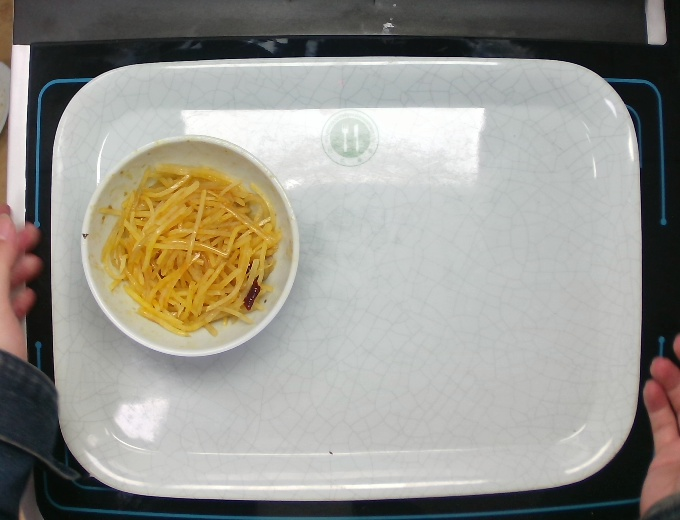JYsf-Fan_Wan: (74, 131, 304, 360)
